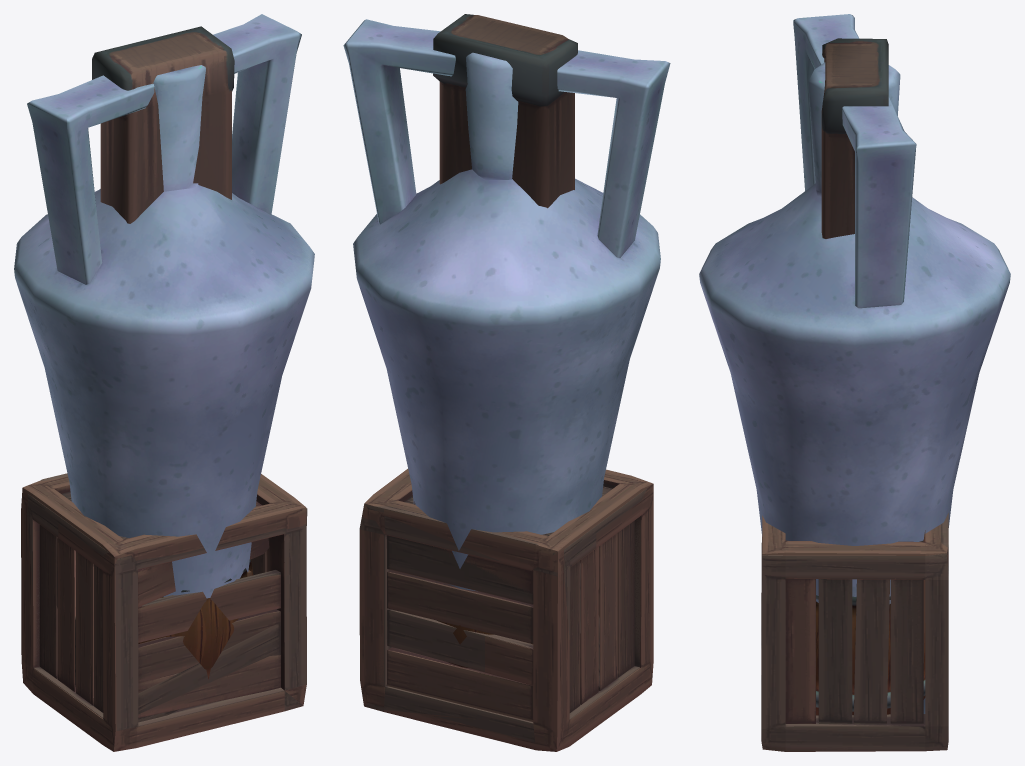
Rendered from MapObjectsRAW.fbx.
3 renders of one model, left to right at view 1: azimuth 30°, elevation 25°; view 2: azimuth 150°, elevation 25°; view 3: azimuth 270°, elevation 25°, orthographic. The views are drawn at different scales.
Parts seen in each view (by area): view 1: SM_Vase_02, SM_Crate, SM_Crate_Broken, SM_Beam_1, SM_Barrel; view 2: SM_Vase_02, SM_Crate, SM_Crate_Broken, SM_Beam_1; view 3: SM_Vase_02, SM_Crate_Broken, SM_Beam_1, SM_Crate, SM_Barrel.
Part boxes in pixels (x1=…): SM_Vase_02: x1=14, y1=14, x2=314, y2=598; SM_Crate: x1=21, y1=474, x2=306, y2=751; SM_Crate_Broken: x1=26, y1=473, x2=307, y2=730; SM_Beam_1: x1=92, y1=26, x2=234, y2=223; SM_Barrel: x1=138, y1=559, x2=253, y2=679; SM_Vase_02: x1=343, y1=19, x2=670, y2=591; SM_Crate: x1=360, y1=469, x2=653, y2=751; SM_Crate_Broken: x1=359, y1=483, x2=647, y2=742; SM_Beam_1: x1=433, y1=14, x2=577, y2=208; SM_Vase_02: x1=699, y1=14, x2=1010, y2=713; SM_Crate_Broken: x1=761, y1=513, x2=948, y2=751; SM_Beam_1: x1=821, y1=38, x2=888, y2=238; SM_Crate: x1=761, y1=515, x2=948, y2=751; SM_Barrel: x1=816, y1=595, x2=925, y2=715.
Bounding box in the file's own units: 164 × 366 × 161.
